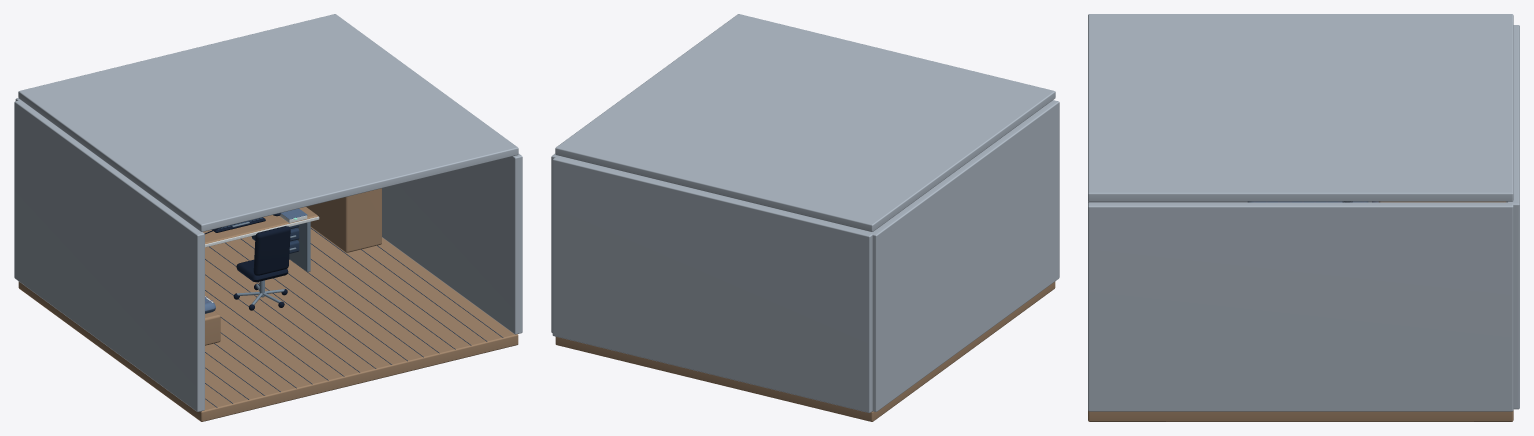
Rendered from studio.glb.
3 views of the same model, side by side, from view 1: azimuth 30°, elevation 25°; view 2: azimuth 150°, elevation 25°; view 3: azimuth 270°, elevation 25° (orthographic). The views are drawn at different scales.
Visible parts, largest first — view 1: Ceiling, Floor, Left wall, Right wall, Closet, Chair backrest, Desk top, Desk leg.001, Bed frame, Upholstered seat; view 2: Ceiling, Back wall, Left wall, Floor; view 3: Right wall, Ceiling, Floor, Back wall.
Boxes of the visible parts, x1=… form: Ceiling: x1=18, y1=14, x2=518, y2=231; Floor: x1=18, y1=227, x2=518, y2=421; Left wall: x1=14, y1=100, x2=204, y2=411; Right wall: x1=382, y1=154, x2=522, y2=334; Closet: x1=306, y1=188, x2=381, y2=252; Chair backrest: x1=253, y1=226, x2=290, y2=275; Desk top: x1=203, y1=207, x2=317, y2=244; Desk leg.001: x1=289, y1=222, x2=310, y2=271; Bed frame: x1=205, y1=311, x2=220, y2=345; Upholstered seat: x1=236, y1=259, x2=288, y2=282; Ceiling: x1=555, y1=14, x2=1055, y2=231; Back wall: x1=552, y1=155, x2=872, y2=412; Left wall: x1=871, y1=100, x2=1059, y2=411; Floor: x1=555, y1=281, x2=1055, y2=421; Right wall: x1=1088, y1=202, x2=1513, y2=411; Ceiling: x1=1088, y1=14, x2=1513, y2=201; Floor: x1=1088, y1=410, x2=1513, y2=421; Back wall: x1=1507, y1=25, x2=1519, y2=409.
Bounding box in the file's own units: 6.15 × 3.57 × 6.09.
